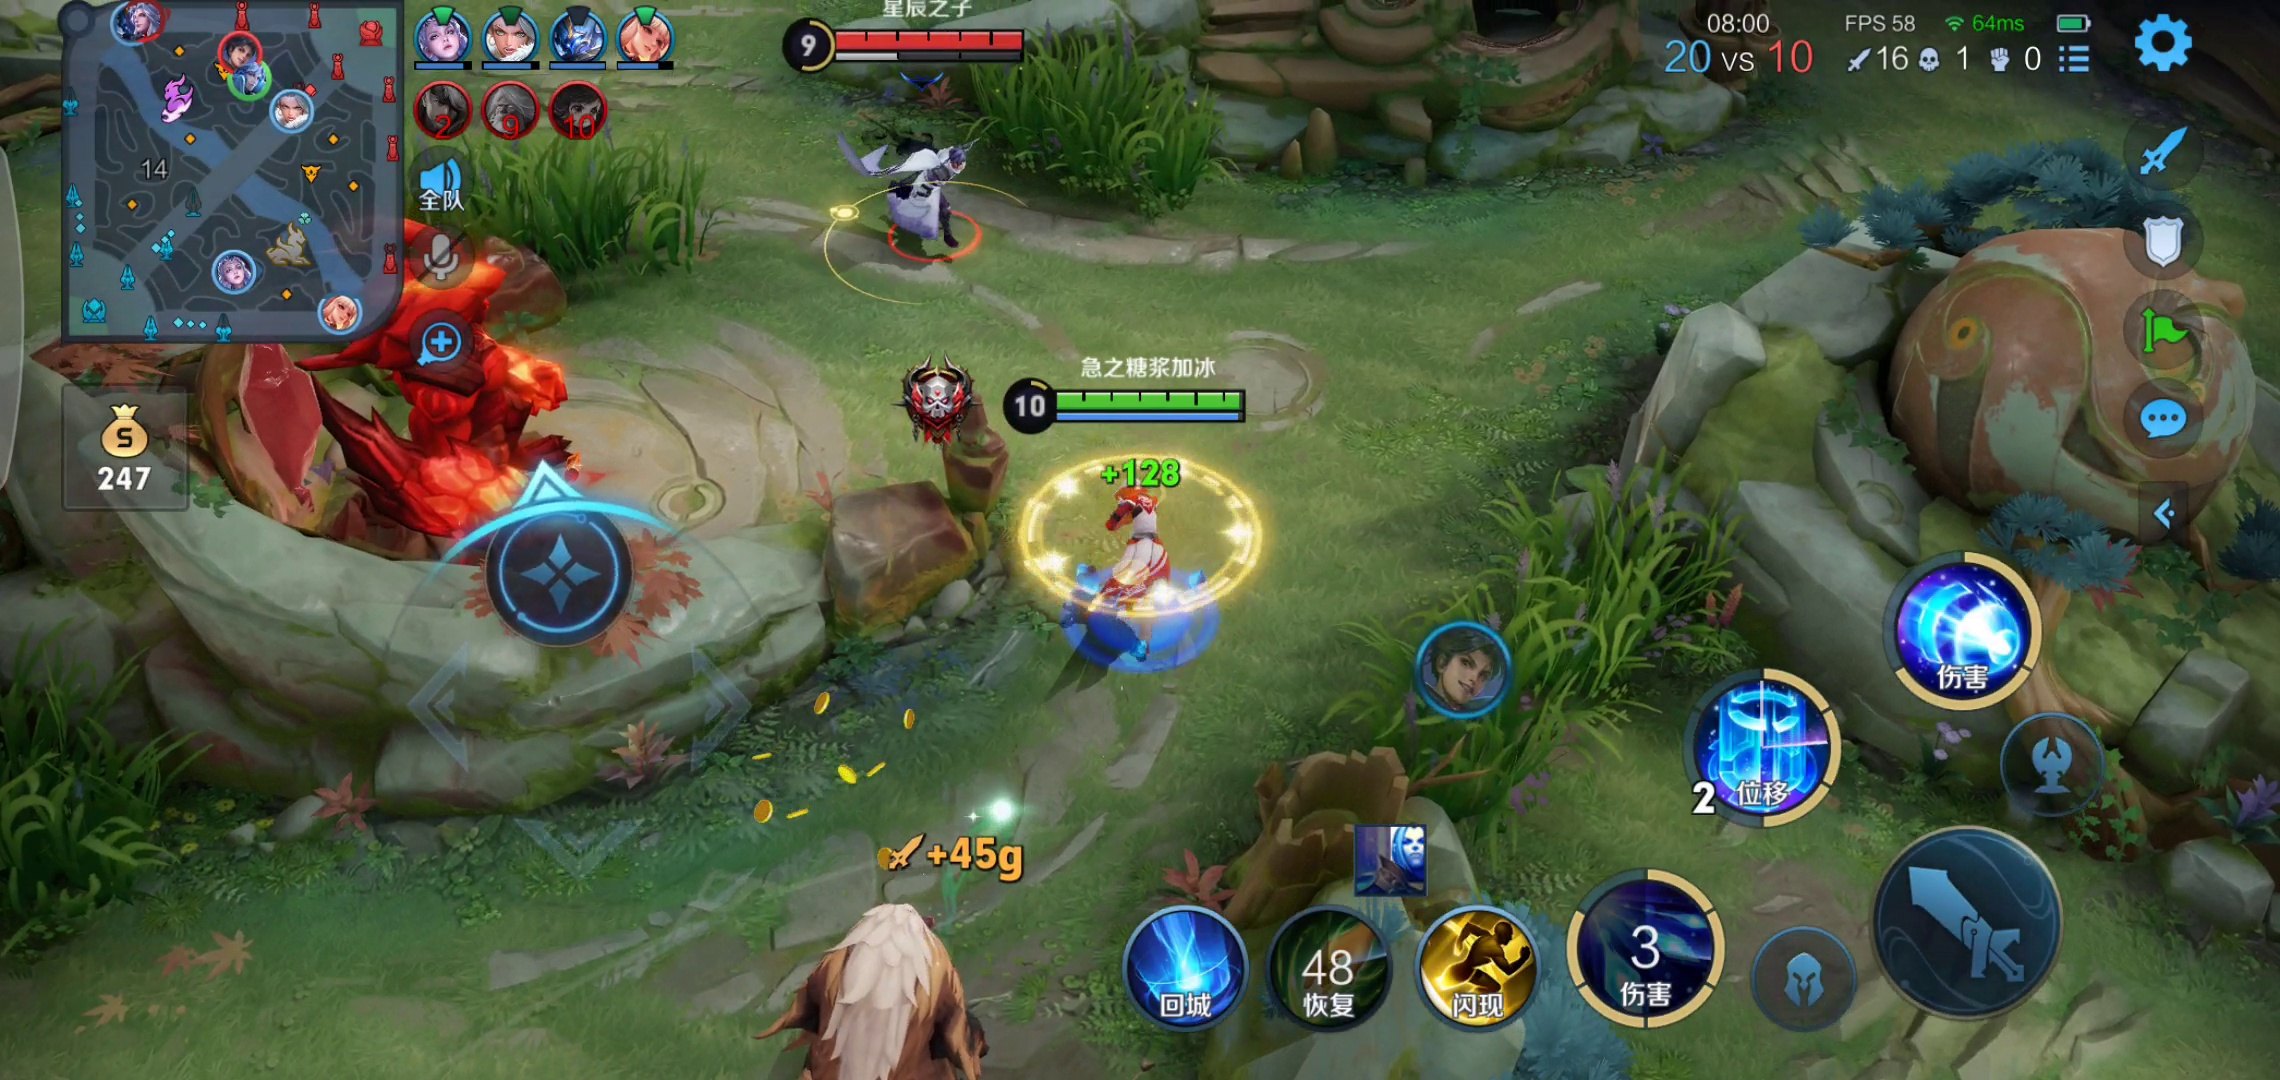buff: (324, 265, 587, 547)
grass: (1376, 480, 1690, 846), (1, 657, 179, 972), (380, 145, 715, 278), (982, 49, 1221, 201)
hero: (1047, 472, 1236, 664), (832, 121, 986, 265)
wild_monster: (760, 888, 1029, 1080)
